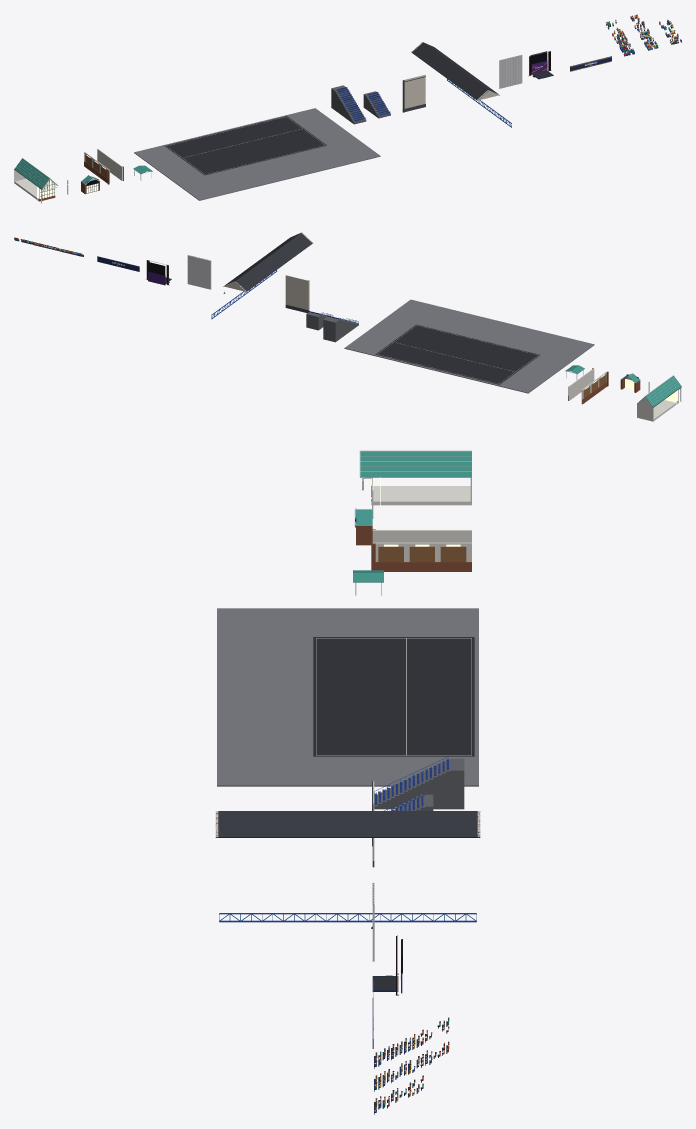
The model's file is NationalsArena_02.glb.
The picture shows the model from 3 angles, top to bottom: view 1: azimuth 30°, elevation 25°; view 2: azimuth 150°, elevation 25°; view 3: azimuth 270°, elevation 25°; orthographic projection. The views are drawn at different scales.
Visible parts, largest first — view 1: NatFloor_Concrete, NatFloor_Rubber, NatRoofBay_Plates, NatStandMain_Steps, NatDrape_Cloth, NatWall_Wall, NatBay_Roof, NatStandEnd_Steps, NatEndRight_Wall, NatBay_Walls; view 2: NatFloor_Concrete, NatFloor_Rubber, NatRoofBay_Plates, NatDrape_Cloth, NatWall_Wall, NatStandMain_Steps, NatBay_Walls, NatBay_Roof, NatEndRight_Wall; view 3: NatFloor_Concrete, NatFloor_Rubber, NatRoofBay_Plates, NatBay_Roof, NatStandMain_Steps, NatBay_Walls, NatTruss_Steel, NatEndRight_Wood, NatEndLeft_Wall, NatEndRight_Brick.
Part boxes in pixels (left/top/right/bottom): NatFloor_Concrete: left=134, top=108, right=380, bottom=200; NatFloor_Rubber: left=165, top=116, right=326, bottom=175; NatRoofBay_Plates: left=411, top=42, right=499, bottom=100; NatStandMain_Steps: left=331, top=85, right=366, bottom=124; NatDrape_Cloth: left=499, top=55, right=522, bottom=88; NatWall_Wall: left=402, top=74, right=425, bottom=108; NatBay_Roof: left=14, top=158, right=57, bottom=188; NatStandEnd_Steps: left=363, top=91, right=390, bottom=118; NatEndRight_Wall: left=97, top=149, right=122, bottom=180; NatBay_Walls: left=14, top=170, right=39, bottom=200; NatFloor_Concrete: left=344, top=299, right=594, bottom=393; NatFloor_Rubber: left=375, top=324, right=539, bottom=384; NatRoofBay_Plates: left=223, top=232, right=312, bottom=291; NatDrape_Cloth: left=187, top=255, right=211, bottom=289; NatWall_Wall: left=285, top=275, right=308, bottom=310; NatStandMain_Steps: left=323, top=316, right=358, bottom=342; NatBay_Walls: left=637, top=397, right=678, bottom=421; NatBay_Roof: left=637, top=376, right=681, bottom=406; NatEndRight_Wall: left=568, top=368, right=594, bottom=400; NatFloor_Concrete: left=217, top=608, right=478, bottom=786; NatFloor_Rubber: left=313, top=637, right=474, bottom=756; NatRoofBay_Plates: left=215, top=811, right=480, bottom=837; NatBay_Roof: left=360, top=451, right=471, bottom=477; NatStandMain_Steps: left=374, top=758, right=464, bottom=809; NatBay_Walls: left=373, top=477, right=471, bottom=505; NatTruss_Steel: left=219, top=913, right=476, bottom=922; NatEndRight_Wood: left=378, top=546, right=466, bottom=562; NatEndLeft_Wall: left=372, top=530, right=471, bottom=542; NatEndRight_Brick: left=371, top=543, right=471, bottom=571.
Bounding box in the file's own units: 1051 × 68.4 × 187.
